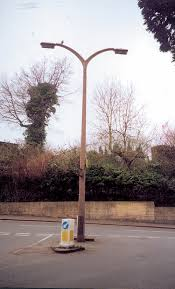light_pole: (75, 58, 92, 241)
